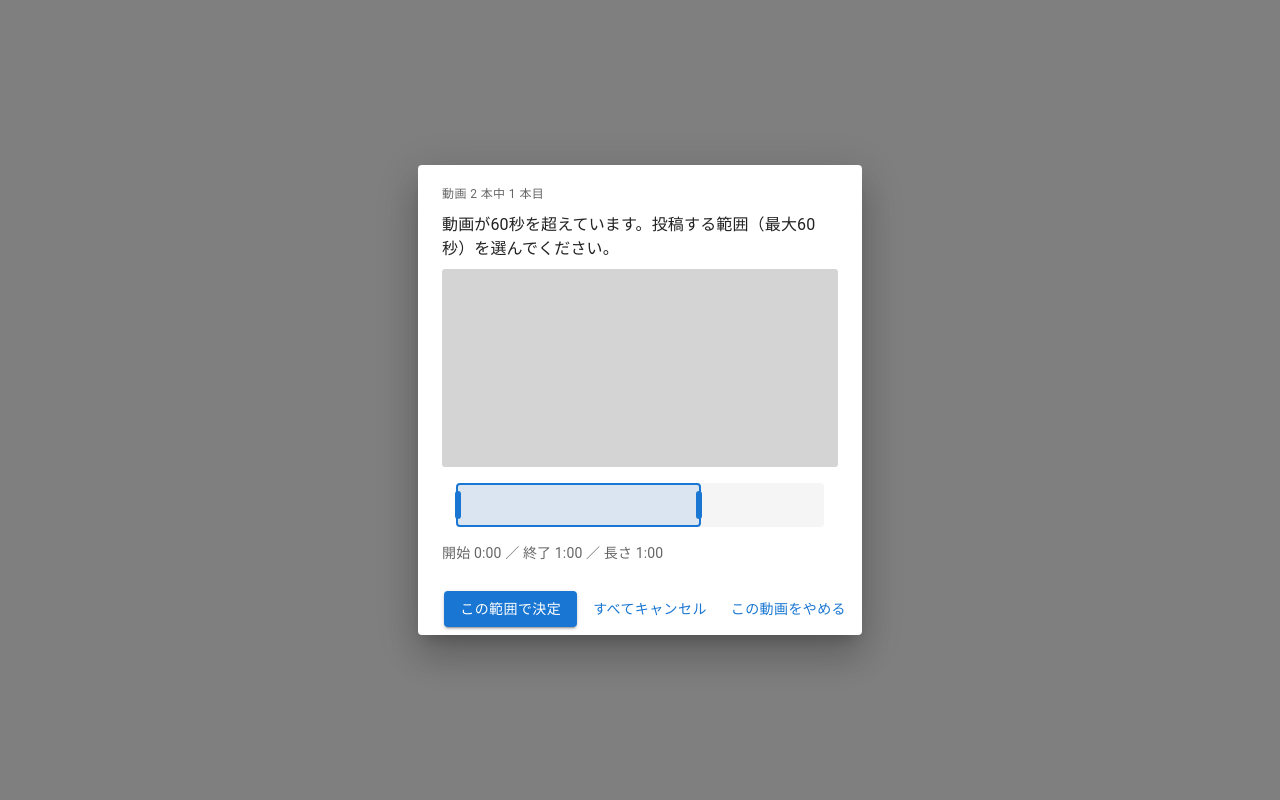
2本目以降の選択ステップ初期化 › 60秒超が2本目に来てもプレビューとトリムのバーが出る
Expected: the slider with test id "trim-frame" is shown, [456, 483, 701, 527]
What coordinates should you click on to do the following:
click the button "この範囲で決定"
I would click on:
 (511, 609)
Its box is [444, 591, 577, 627].
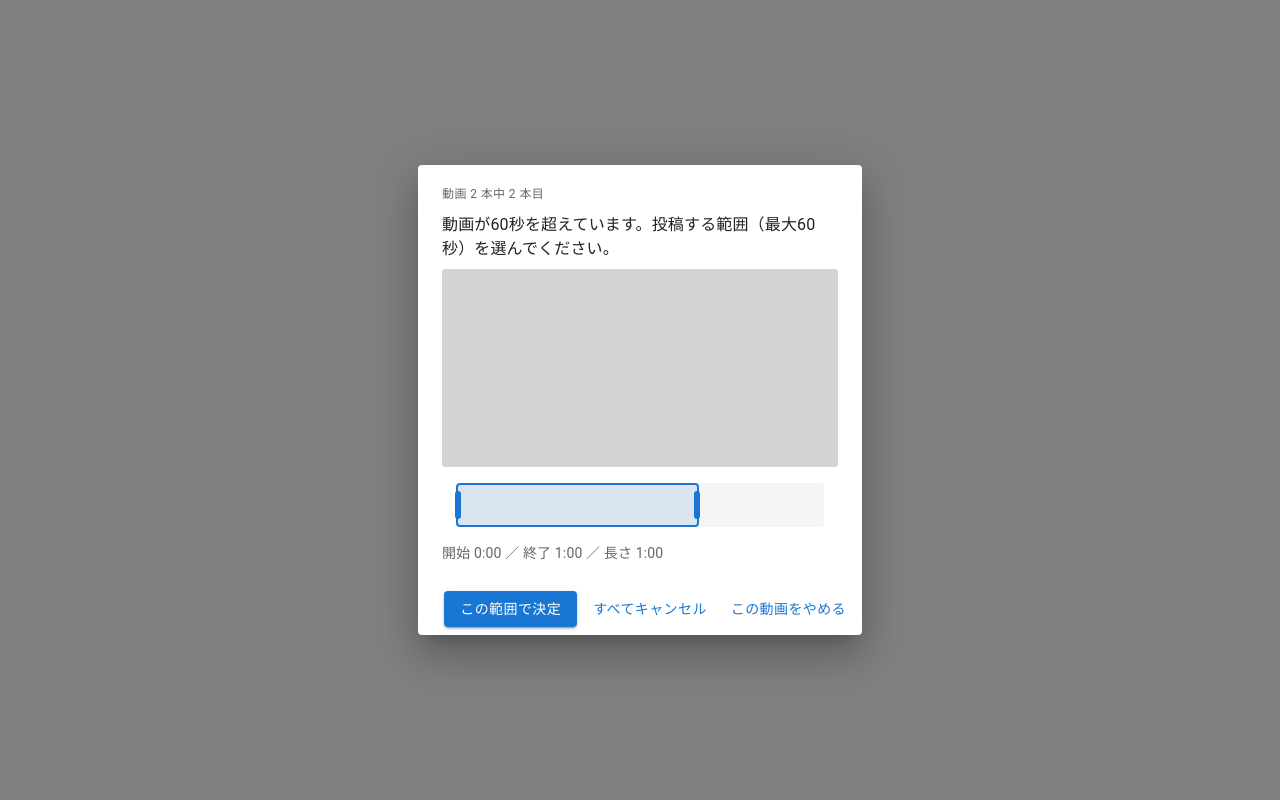
Expected: the slider with test id "trim-frame" is shown, [456, 483, 699, 527]
Result: the text "動画 2 本中 2 本目" is shown at [442, 187, 544, 201]
